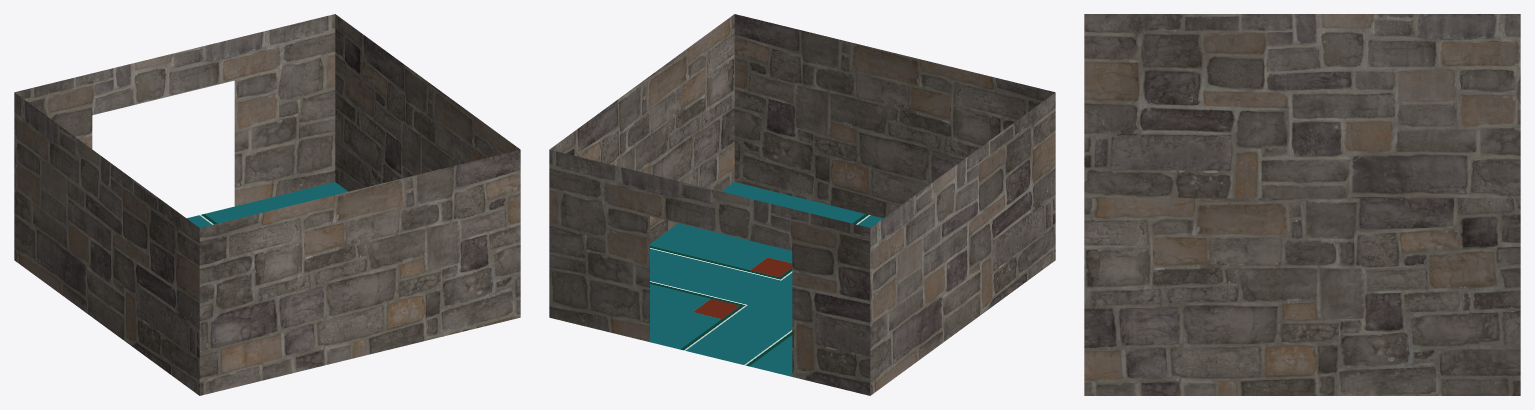
Rendered from room_01.glb.
The picture shows the model from 3 angles, left to right: view 1: azimuth 30°, elevation 25°; view 2: azimuth 150°, elevation 25°; view 3: azimuth 270°, elevation 25°; orthographic projection. The views are drawn at different scales.
Parts seen in each view (by area): view 1: Room01, Room_floor_01; view 2: Room01, Room_floor_01; view 3: Room01.
Boxes of the visible parts, x1,y1,x2,y2 form: Room01: [14, 14, 520, 395]; Room_floor_01: [187, 182, 347, 227]; Room01: [549, 14, 1055, 395]; Room_floor_01: [650, 182, 882, 376]; Room01: [1084, 14, 1520, 395].
Size of the model in its own units: 8 by 4 by 8.
Materials: 2 (2 with a texture image).
